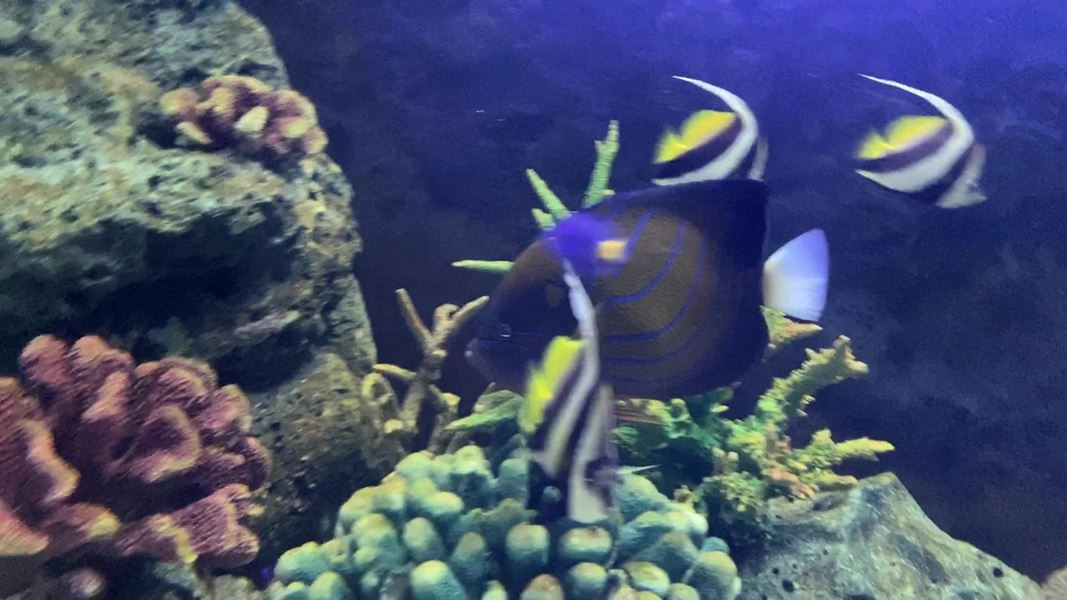Blue ring angelfish: (461, 159, 845, 426)
